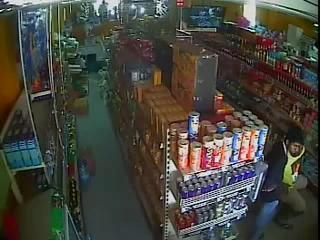Normal: (250, 129, 298, 240)
